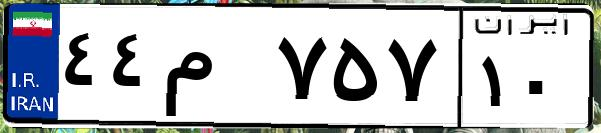0: (525, 38, 570, 115)
1: (475, 38, 525, 113)
4: (57, 26, 110, 100), (110, 28, 158, 98)
5: (330, 28, 385, 110)
7: (270, 28, 330, 110), (385, 28, 445, 110)
م: (158, 20, 270, 120)
